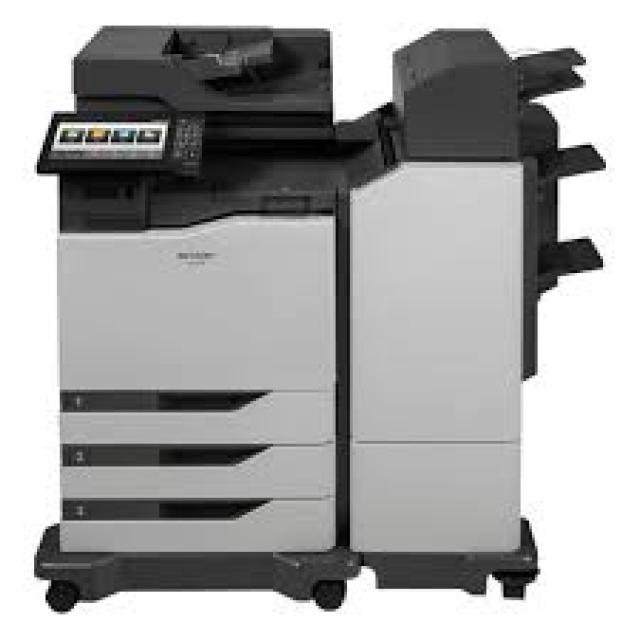printer: (31, 20, 606, 611)
